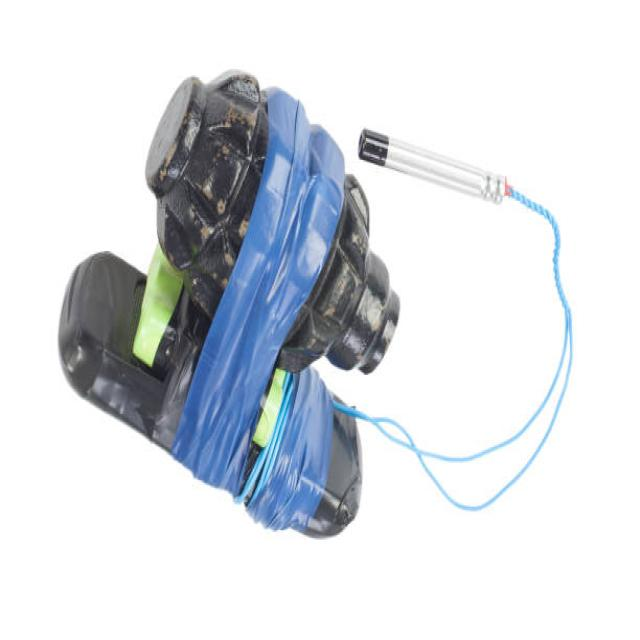grenade: (140, 69, 406, 382)
